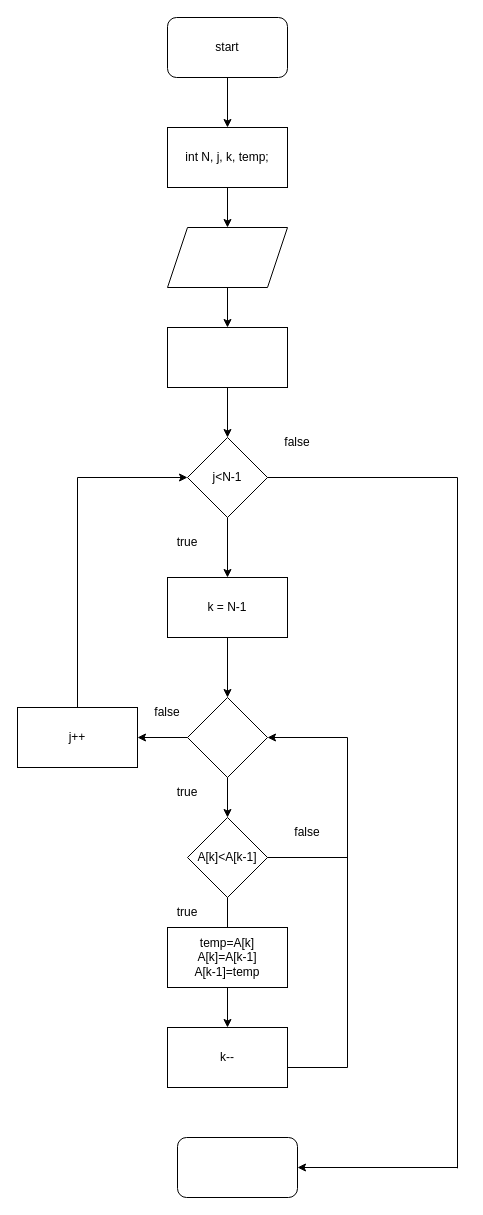
Some shapes in this 483 by 1215 pixel diagram are drawn without their labels. Here are the shapes that lost their labels. From the top down, the centre of each, then its label:
At point (227, 257): "Masukkan nilai N".
At point (227, 357): "j = 0".
At point (227, 737): "k >= j+1".
At point (237, 1167): "end".
